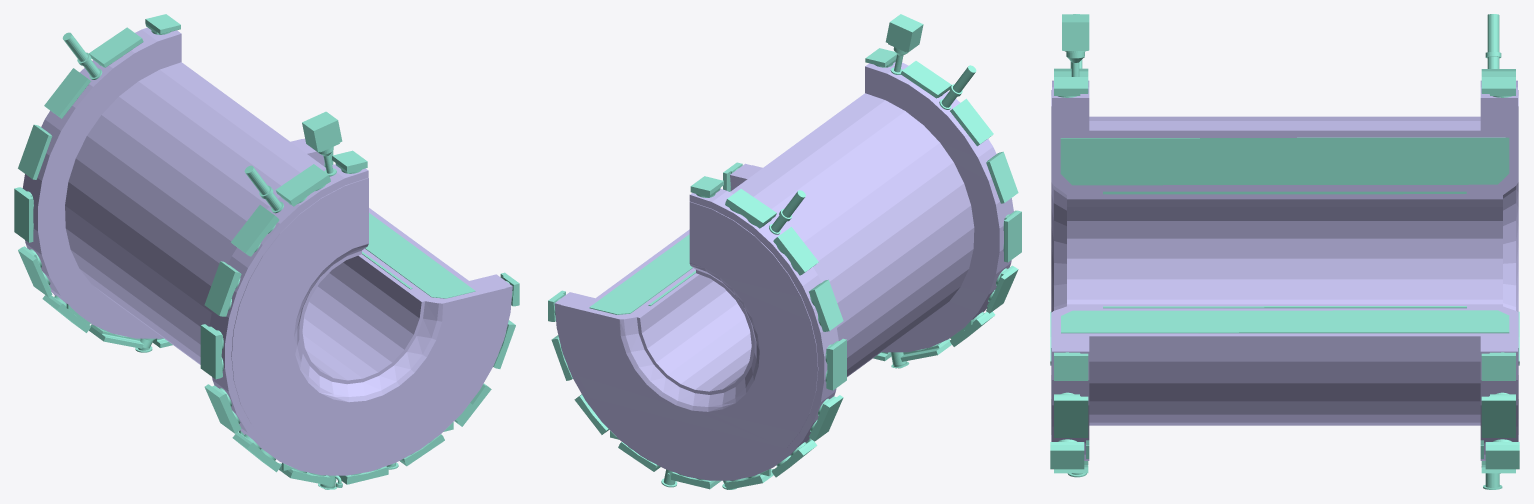
File: Lar-Barrel-cut3.glb
3 renders of one model, left to right at view 1: azimuth 30°, elevation 25°; view 2: azimuth 150°, elevation 25°; view 3: azimuth 270°, elevation 25°, orthographic. The views are drawn at different scales.
Visible parts, largest first — view 1: null; view 2: null; view 3: null.
Boxes of the visible parts, box(x1,y1,x2,y2) form: null: box(14, 14, 519, 489); null: box(548, 14, 1021, 489); null: box(1050, 14, 1519, 489).
Size of the model in its own units: 5.86 by 6.98 by 6.84.
